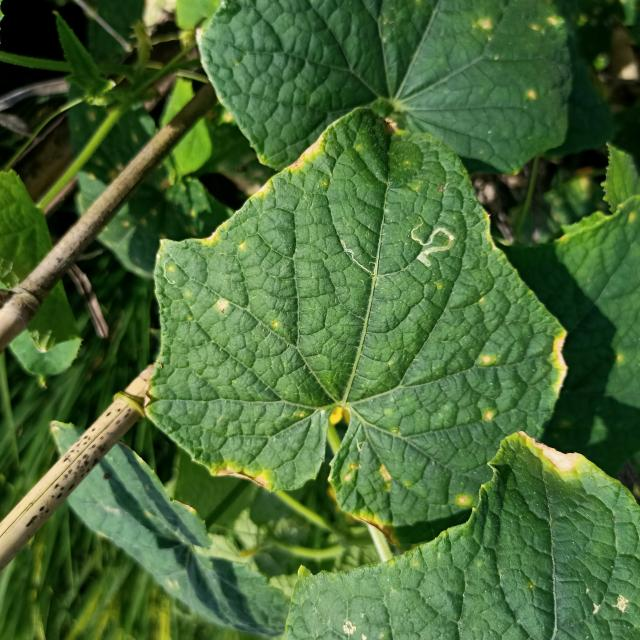disease_cucumber: (339, 458, 396, 528), (200, 228, 247, 258), (211, 298, 230, 314), (483, 408, 497, 423), (482, 352, 492, 366)
